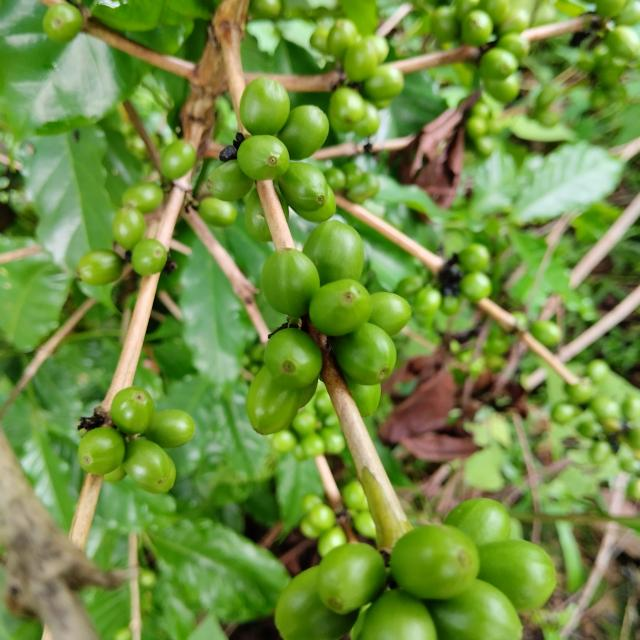green: (391, 526, 480, 600), (275, 567, 358, 640), (428, 580, 523, 640), (479, 540, 557, 612), (317, 544, 387, 615), (260, 248, 320, 317), (302, 219, 364, 285), (333, 322, 397, 385), (358, 591, 438, 640), (246, 366, 302, 435), (309, 279, 372, 336), (264, 328, 322, 389), (445, 499, 511, 547), (239, 76, 290, 135), (122, 439, 176, 494), (278, 104, 329, 159), (278, 161, 328, 211), (77, 427, 125, 476), (237, 135, 289, 180), (109, 386, 155, 435), (206, 159, 254, 201), (144, 410, 194, 449), (369, 292, 412, 336), (292, 185, 336, 222), (42, 2, 82, 41), (244, 187, 272, 242), (347, 381, 381, 418), (298, 378, 318, 409), (277, 189, 289, 220)
